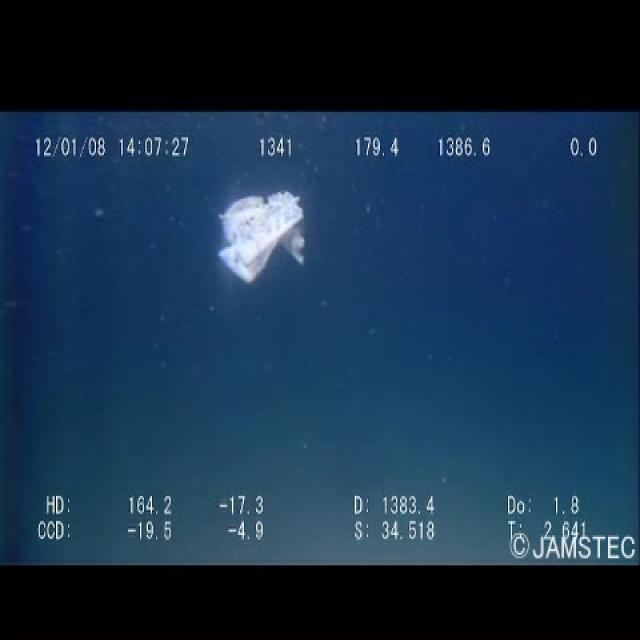plastic: (212, 183, 309, 288)
